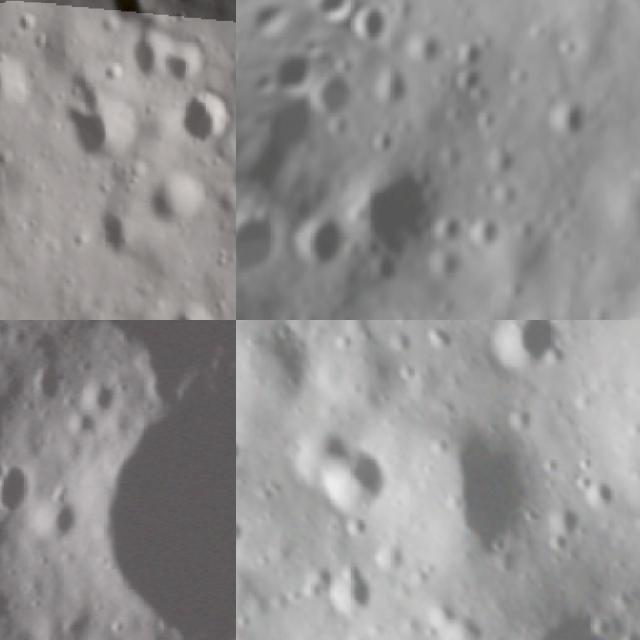crater: (0, 320, 236, 640), (391, 399, 573, 578), (332, 144, 470, 279), (304, 435, 412, 541), (236, 320, 344, 418), (282, 198, 373, 288), (271, 413, 362, 501), (514, 578, 640, 640), (468, 320, 574, 391), (314, 554, 391, 634), (66, 81, 140, 162), (236, 196, 299, 289), (17, 481, 93, 556), (537, 81, 609, 156), (418, 584, 500, 640), (141, 169, 207, 234), (536, 491, 599, 556), (85, 202, 147, 268), (70, 362, 130, 426), (305, 59, 365, 122), (363, 56, 423, 116), (0, 449, 48, 524), (342, 0, 407, 55), (176, 92, 235, 150), (288, 555, 347, 613), (445, 26, 501, 80), (16, 359, 70, 414), (55, 396, 107, 451), (574, 472, 628, 524), (125, 31, 169, 82), (416, 320, 465, 365), (161, 38, 202, 88), (101, 0, 161, 31), (582, 601, 627, 640), (0, 53, 23, 126), (236, 292, 278, 320), (236, 505, 260, 554), (8, 8, 40, 38), (166, 305, 217, 320), (236, 428, 252, 475)
